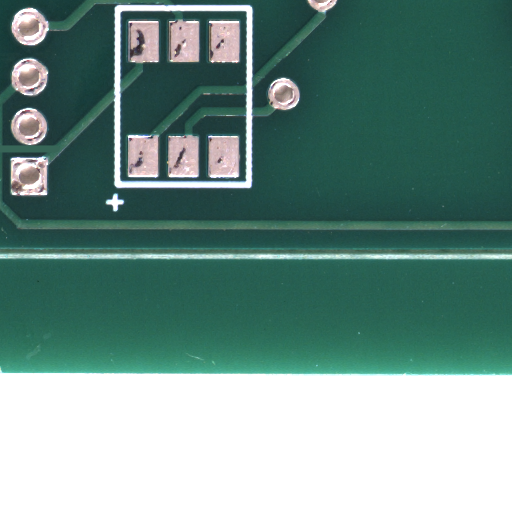Short: (28, 149, 85, 160)
